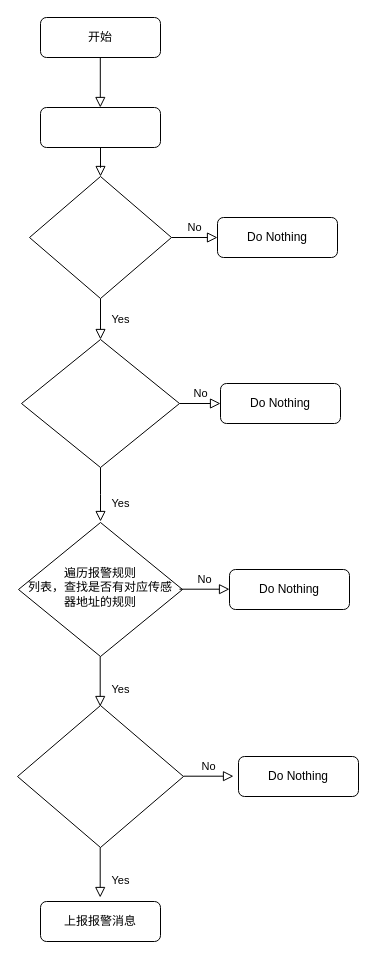
The diagram is 376 pixels wide and 959 high, and some of its shapes have lost their labels. Here are the shapes that lost their labels. From the top down, the centre of each, then its label:
At (x=100, y=127): "接收Core层的数据".
At (x=100, y=237): "全局设置中是否 启用了报警？".
At (x=100, y=403): "对应的点位是否 启用了报警？".
At (x=100, y=776): "对比传感器的值 与报警阈值，是否满足报警条件？".
